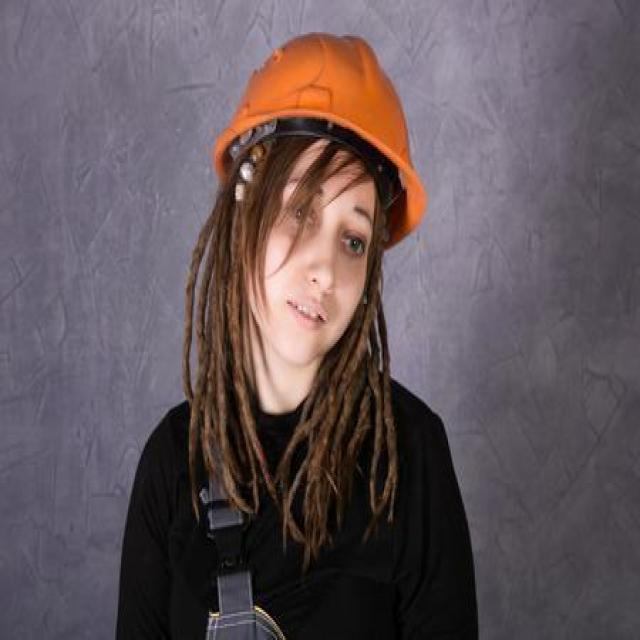helmet: (214, 30, 426, 248)
